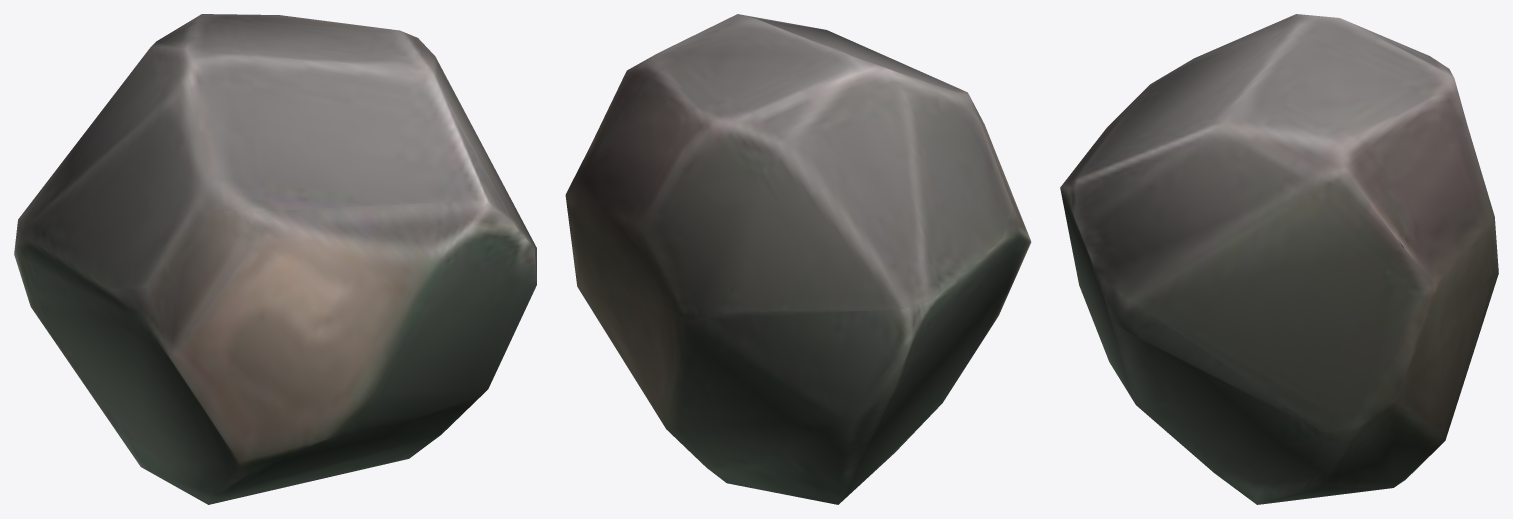
File: rock_small.glb
The picture shows the model from 3 angles, left to right: view 1: azimuth 30°, elevation 25°; view 2: azimuth 150°, elevation 25°; view 3: azimuth 270°, elevation 25°; orthographic projection. The views are drawn at different scales.
Visible parts, largest first — view 1: rock_small; view 2: rock_small; view 3: rock_small.
Boxes of the visible parts, x1,y1,x2,y2 form: rock_small: (14, 14, 536, 504); rock_small: (565, 14, 1031, 504); rock_small: (1060, 14, 1498, 504).
Size of the model in its own units: 0.6138 by 0.6587 by 0.6252.
Materials: 1 (1 with a texture image).
